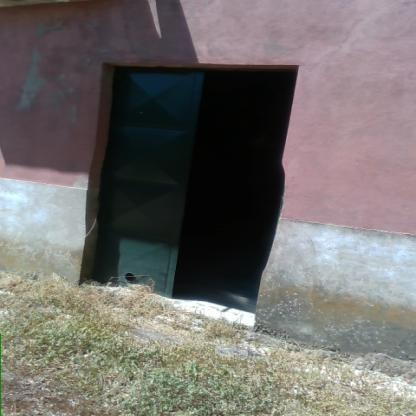open: (83, 51, 308, 313)
